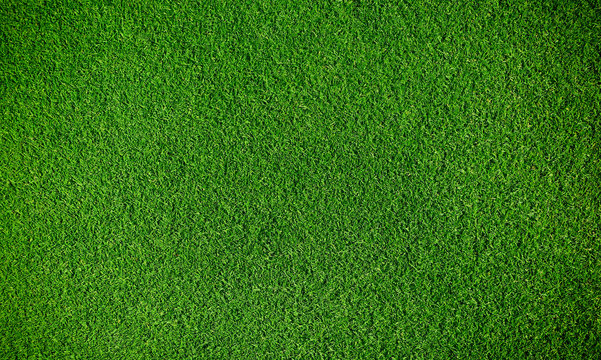grass: (2, 1, 601, 360)
